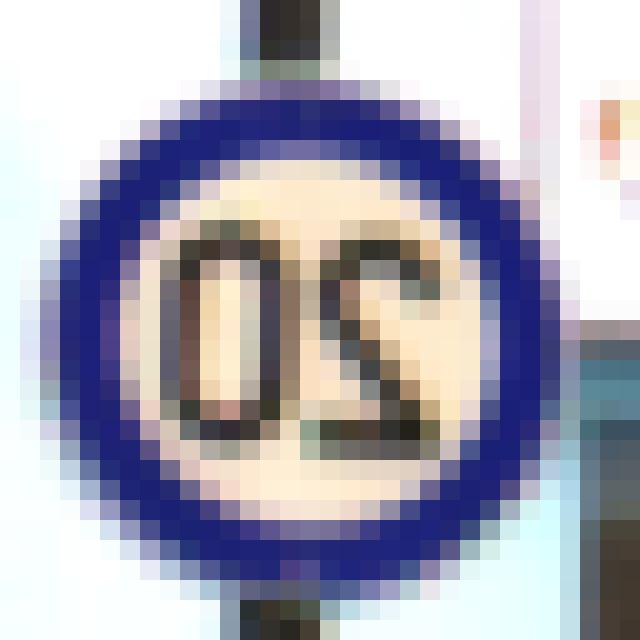SPEED LIMIT 20: (27, 81, 561, 614)
